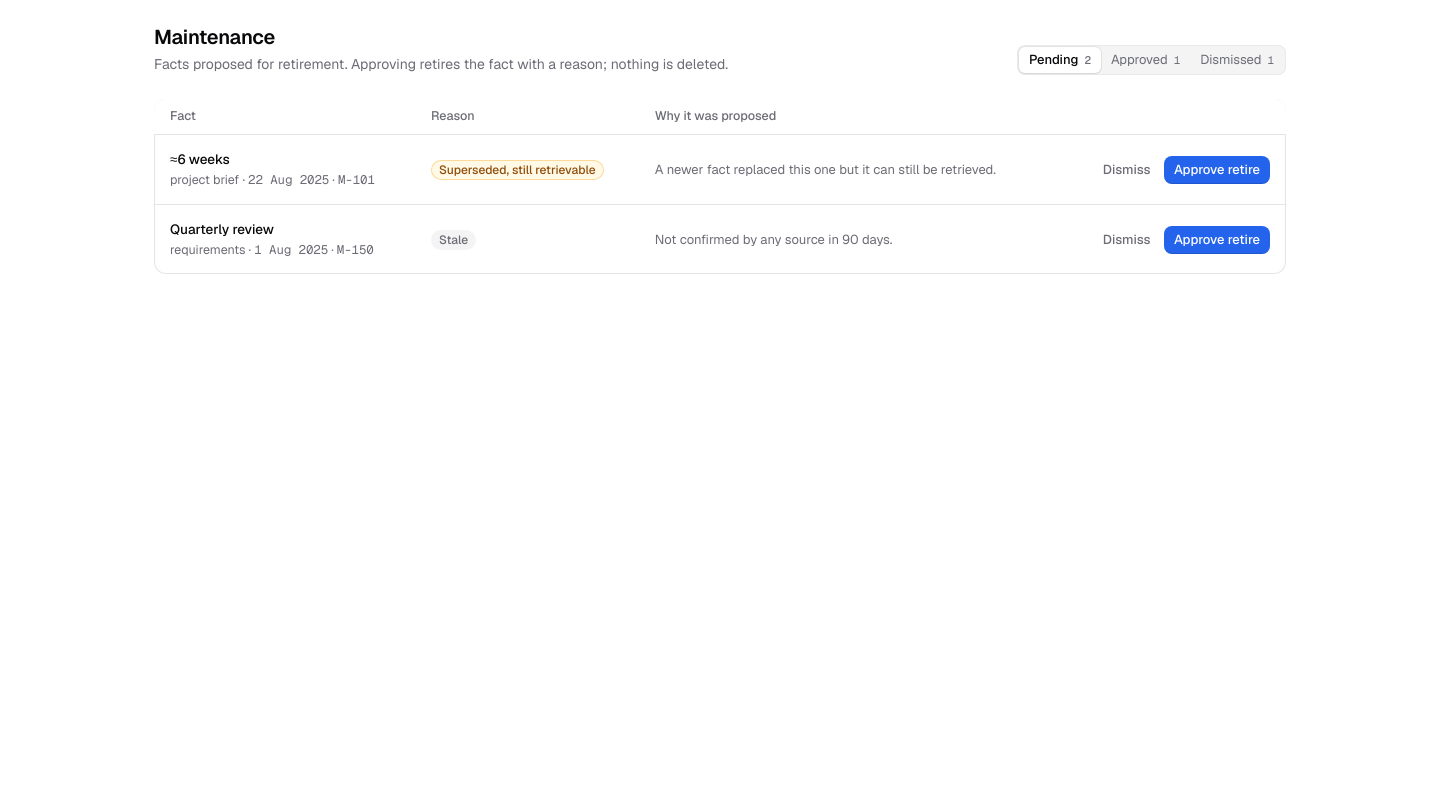
Maintenance › deciding › dismissing leaves the fact alone and confirms
Expected: the text "Quarterly review" is shown, [170, 220, 274, 238]
Step 1. Click the button "Dismiss" in the row of "Stale" → (1127, 240), box [1093, 226, 1161, 254]
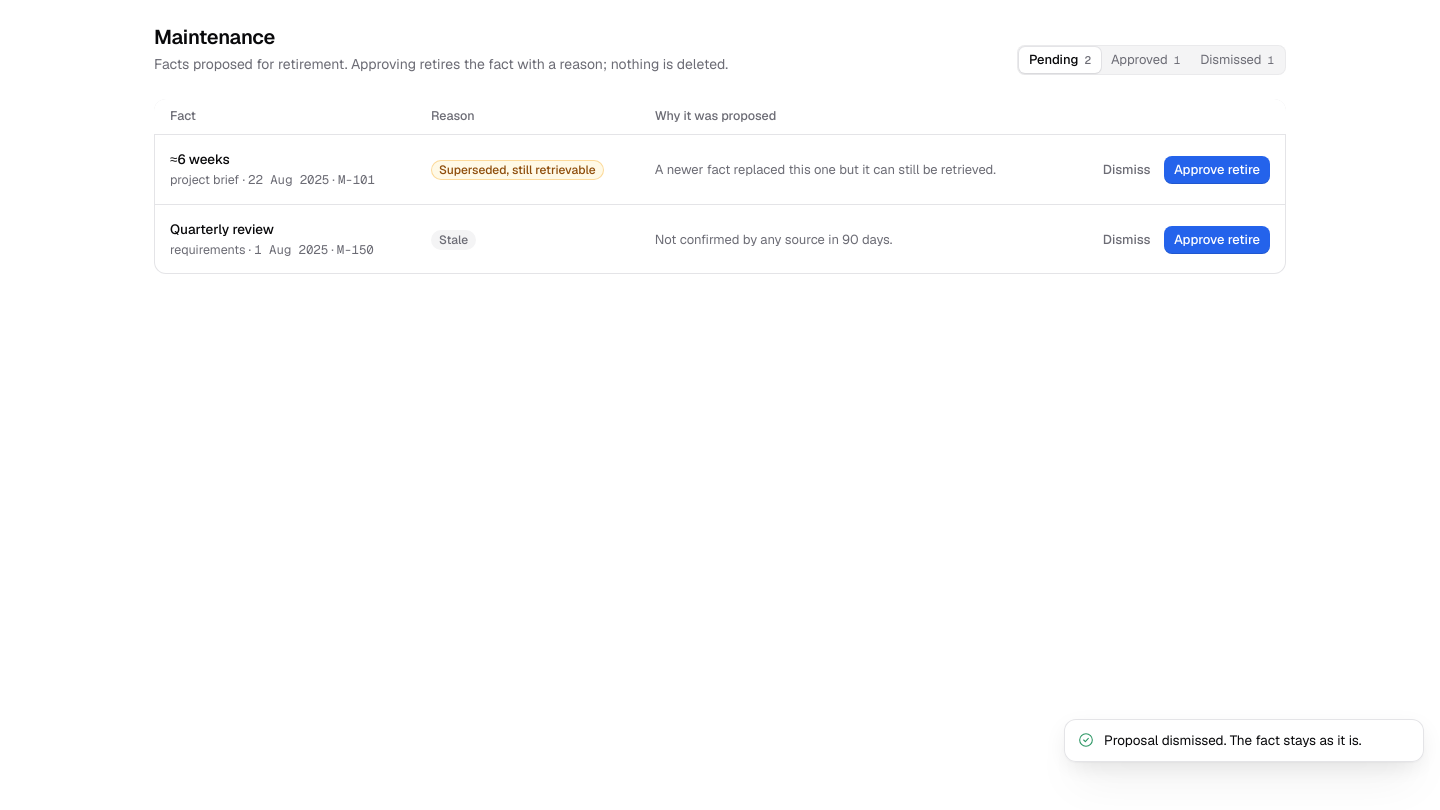
Expected: the text "Proposal dismissed. The fact stays as it is." is shown, [1104, 731, 1362, 749]
